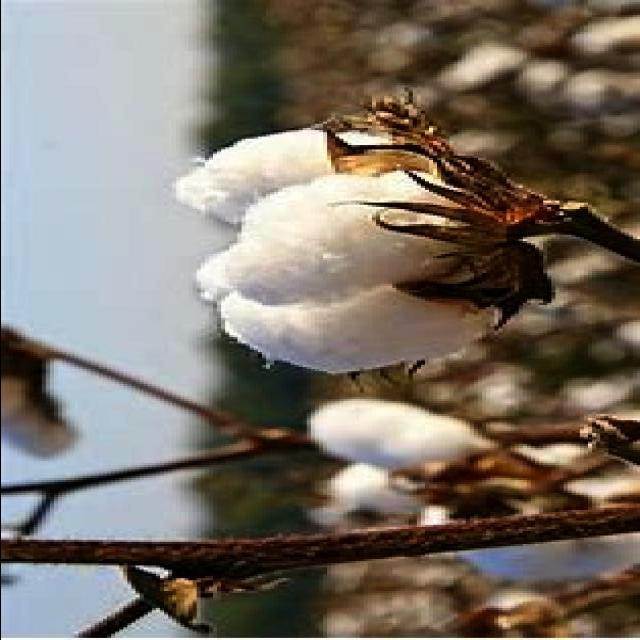Matured Cotton Boll: (171, 123, 514, 361), (442, 448, 634, 578), (313, 392, 485, 531)
